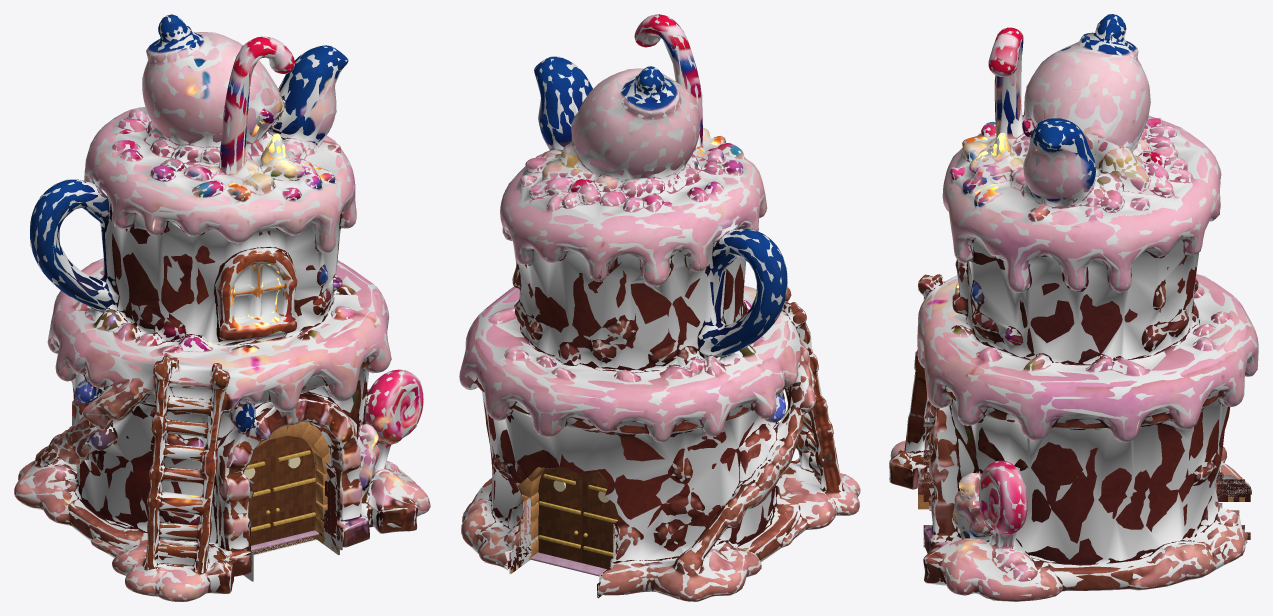
Rendered from GIN_HD_CandyMughouse.fbx.
3 renders of one model, left to right at view 1: azimuth 30°, elevation 25°; view 2: azimuth 150°, elevation 25°; view 3: azimuth 270°, elevation 25°, orthographic. The views are drawn at different scales.
Parts seen in each view (by area): view 1: GIN_HD_CandyMughouse, COL_GIN_HD_CandyMughouse_Shell, GIN_HD_CandyMughouse_Door_FR, GIN_HD_CandyMughouse_Frame, GIN_HD_CandyMughouse_Door_FL; view 2: GIN_HD_CandyMughouse, COL_GIN_HD_CandyMughouse_Shell, GIN_HD_CandyMughouse_Door_BL, GIN_HD_CandyMughouse_Door_BR, GIN_HD_CandyMughouse_Frame; view 3: GIN_HD_CandyMughouse, COL_GIN_HD_CandyMughouse_Shell.
Boxes of the visible parts, <box> form: GIN_HD_CandyMughouse: <box>14,14,430,601</box>; COL_GIN_HD_CandyMughouse_Shell: <box>14,14,430,601</box>; GIN_HD_CandyMughouse_Door_FR: <box>266,435,315,540</box>; GIN_HD_CandyMughouse_Frame: <box>251,422,329,550</box>; GIN_HD_CandyMughouse_Door_FL: <box>244,440,279,545</box>; GIN_HD_CandyMughouse: <box>459,14,860,601</box>; COL_GIN_HD_CandyMughouse_Shell: <box>459,14,859,601</box>; GIN_HD_CandyMughouse_Door_BL: <box>538,467,587,563</box>; GIN_HD_CandyMughouse_Door_BR: <box>574,472,618,569</box>; GIN_HD_CandyMughouse_Frame: <box>517,467,608,576</box>; GIN_HD_CandyMughouse: <box>889,14,1258,601</box>; COL_GIN_HD_CandyMughouse_Shell: <box>889,14,1258,601</box>.
Bounding box in the file's own units: 24.66 × 34.73 × 22.97.
